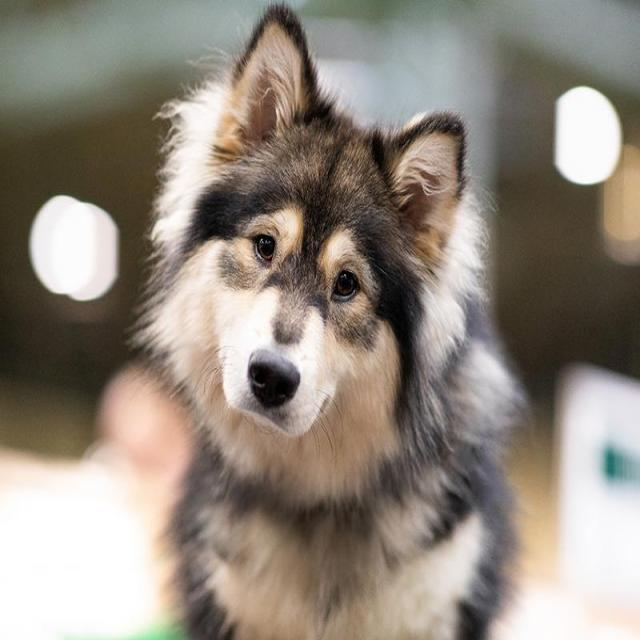Dog: (182, 3, 472, 446)
